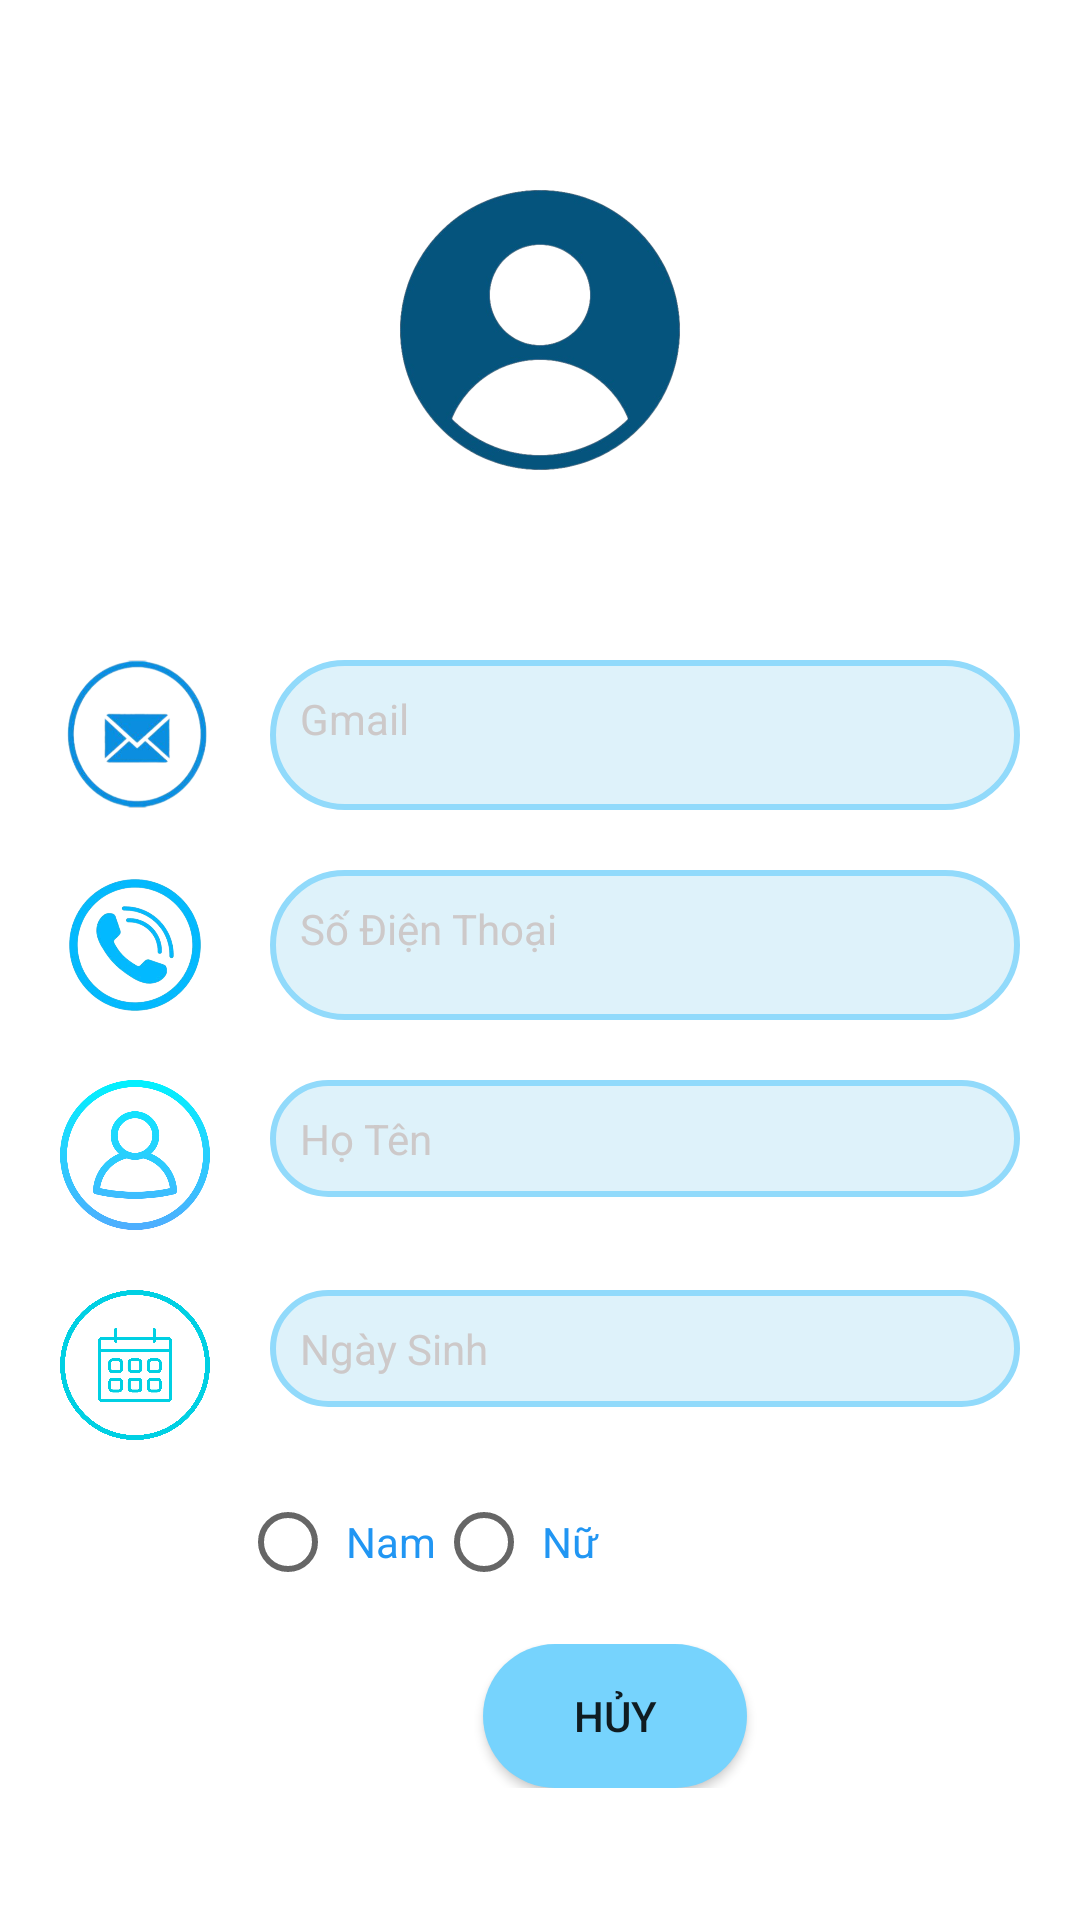

Where to tap for icons on this 1080*1920 app screen, as [x,y]:
icondate: [135,1365]
iconmail: [137,734]
iconphone: [135,945]
